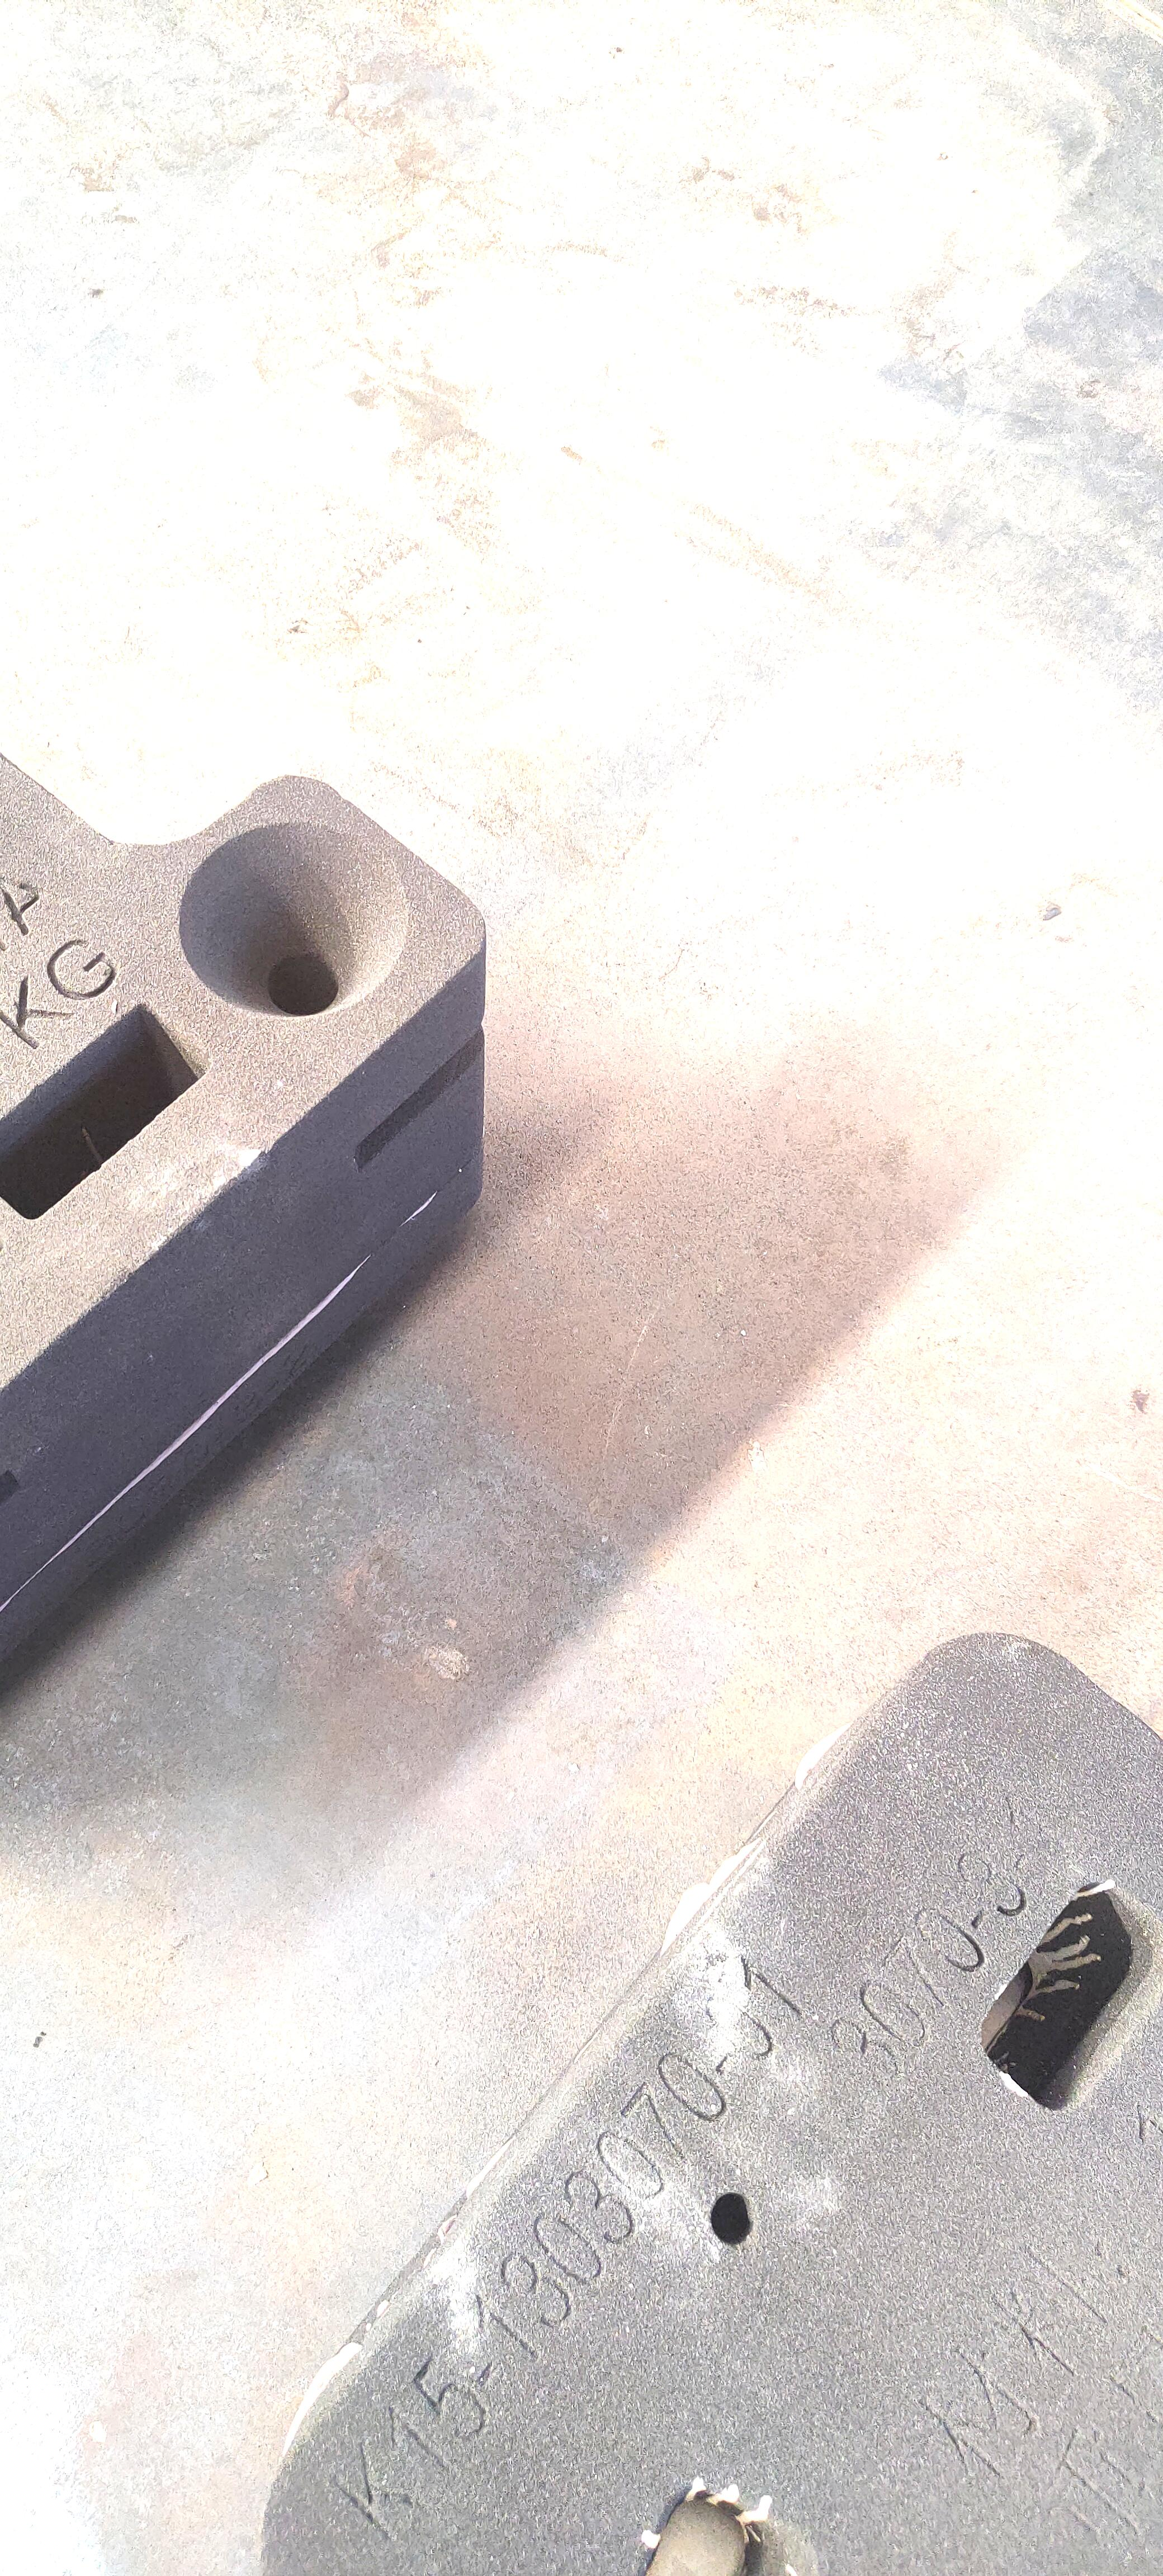pouring hole: (177, 821, 407, 1017)
